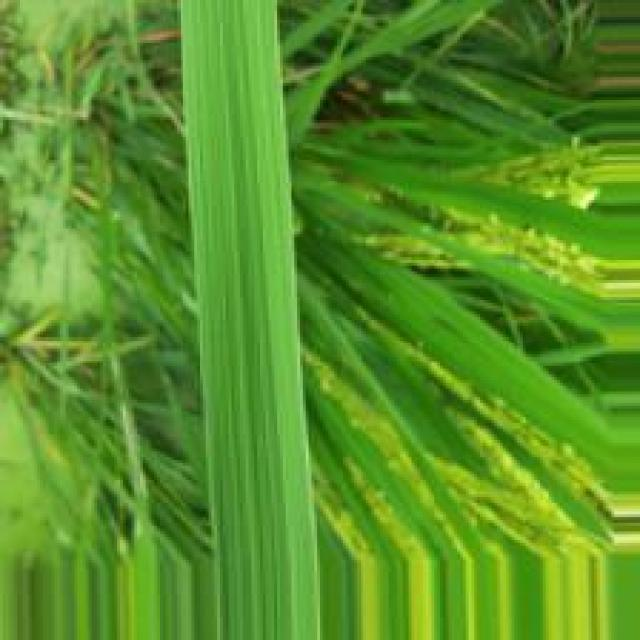HealthyLeaf: (175, 1, 316, 640)
